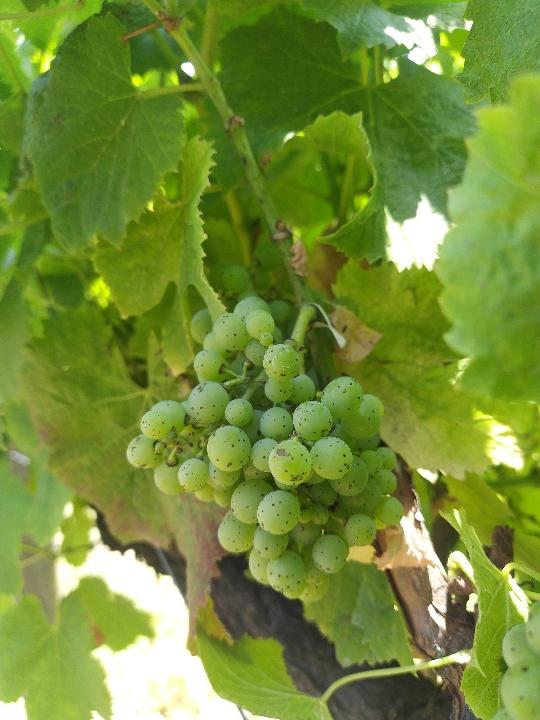grape: (121, 293, 404, 606)
